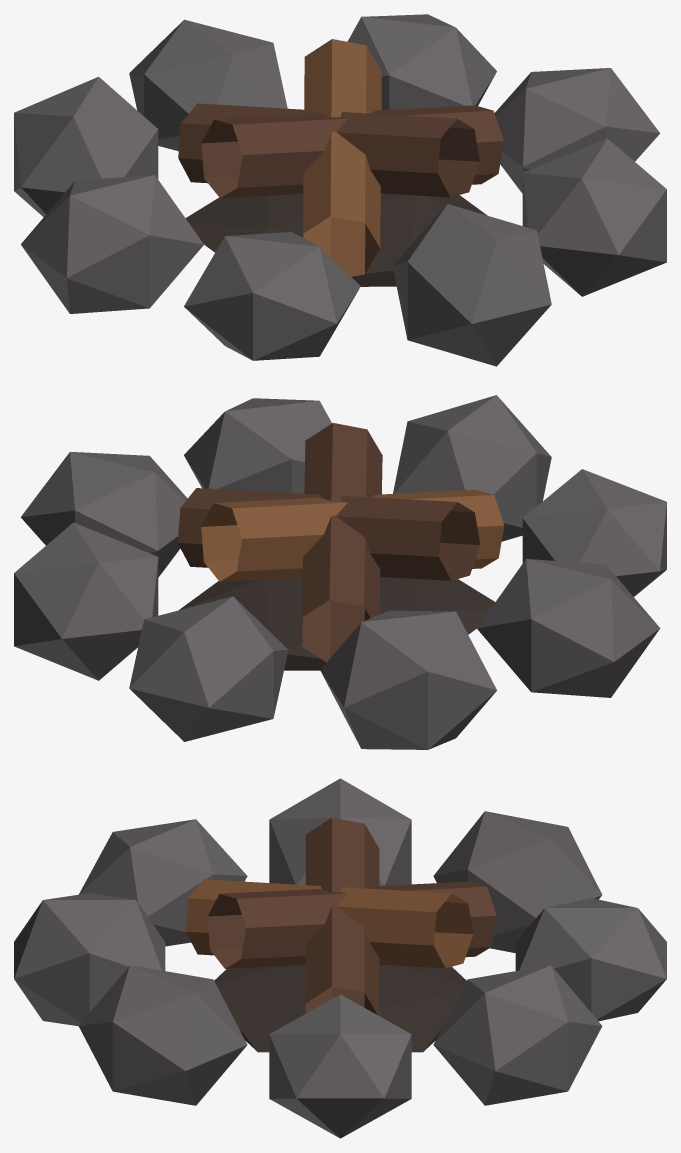
The picture shows the model from 3 angles, top to bottom: view 1: azimuth 30°, elevation 25°; view 2: azimuth 150°, elevation 25°; view 3: azimuth 270°, elevation 25°; orthographic projection. The views are drawn at different scales.
Visible parts, largest first — view 1: C09_八石交柴火塘; view 2: C09_八石交柴火塘; view 3: C09_八石交柴火塘.
Part boxes in pixels (x1,y1,x2,y2): C09_八石交柴火塘: [14, 14, 666, 366]; C09_八石交柴火塘: [14, 395, 666, 749]; C09_八石交柴火塘: [14, 778, 666, 1138].
Bounding box in the file's own units: 1.25 × 0.3186 × 1.25.
